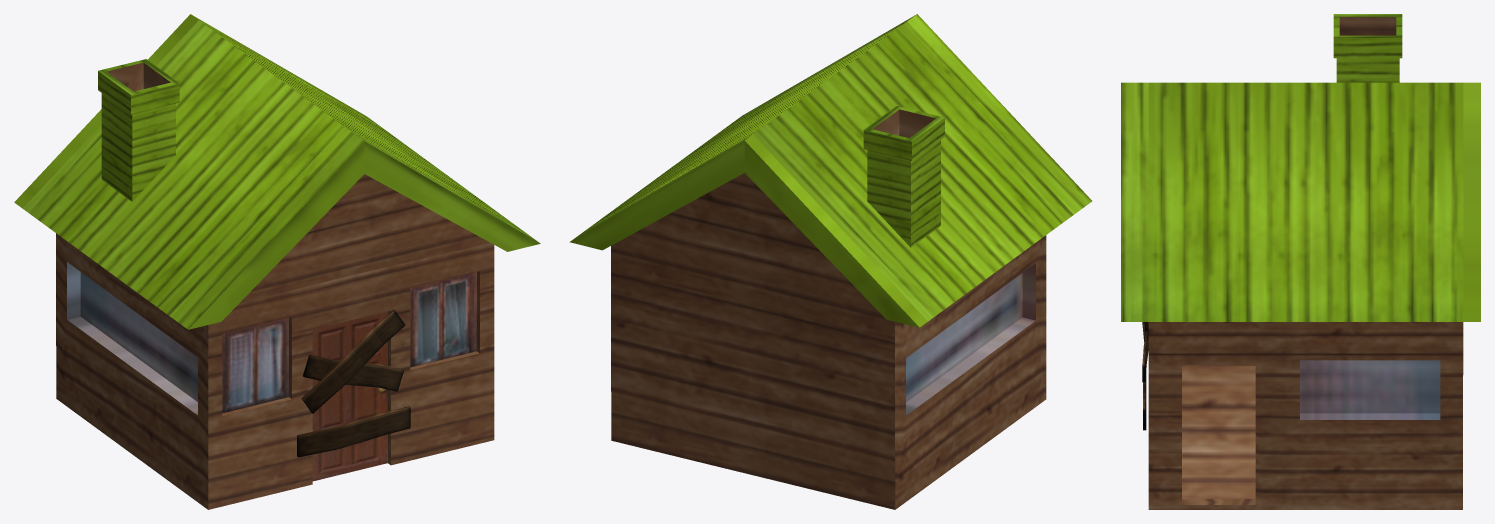
The model's file is house_002.fbx.
3 views of the same model, side by side, from view 1: azimuth 30°, elevation 25°; view 2: azimuth 150°, elevation 25°; view 3: azimuth 270°, elevation 25° (orthographic). The views are drawn at different scales.
Visible parts, largest first — view 1: wood; view 2: wood; view 3: wood.
Part boxes in pixels (<box>): wood: <box>14,14,540,509</box>; wood: <box>569,14,1092,509</box>; wood: <box>1121,14,1480,509</box>.
Size of the model in its own units: 107 by 101 by 91.61.
Materials: 2 (2 with a texture image).
